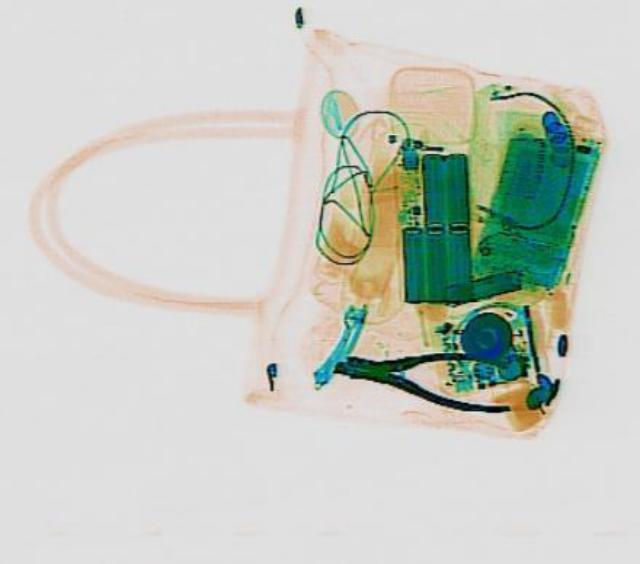Pliers: (326, 328, 520, 415)
